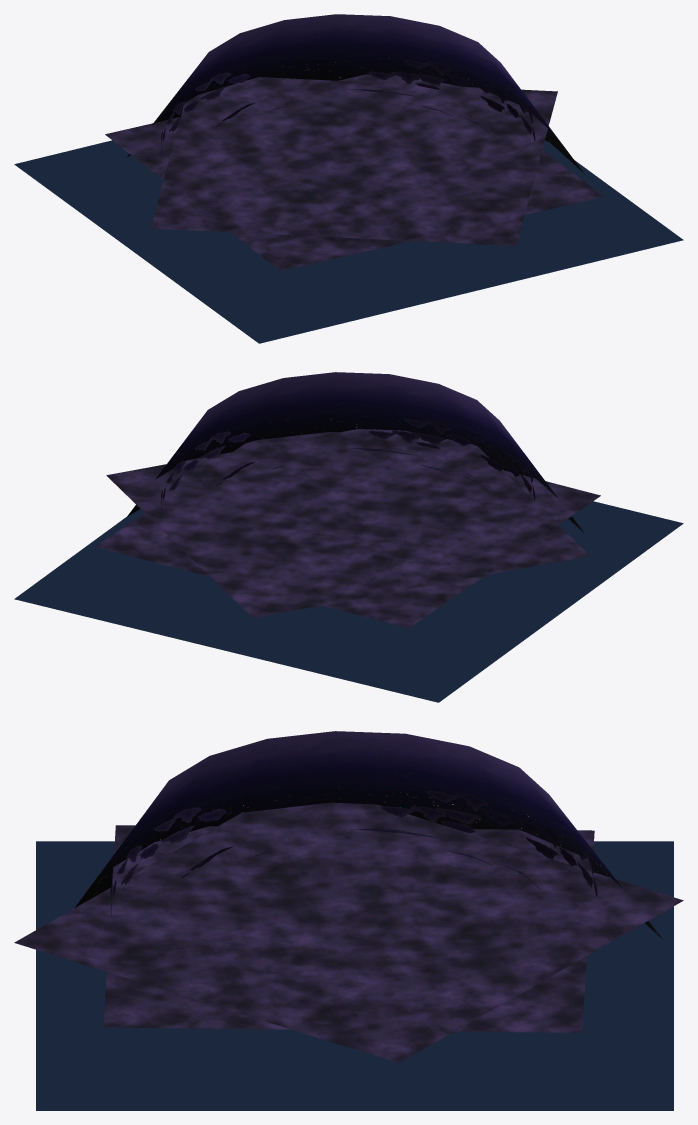
Rendered from RM_SKYBOX_NEW.obj.
3 views of the same model, one above another, from view 1: azimuth 30°, elevation 25°; view 2: azimuth 150°, elevation 25°; view 3: azimuth 270°, elevation 25° (orthographic). The views are drawn at different scales.
Visible parts, largest first — view 1: Object05, Skybox01, Object01; view 2: Object05, Skybox01, Object01; view 3: Object05, Skybox01, Object01, Object02.
Boxes of the visible parts, box(x1,y1,x2,y2) form: Object05: box(105, 74, 603, 270); Skybox01: box(14, 14, 683, 343); Object01: box(161, 59, 535, 157); Object05: box(95, 429, 600, 627); Skybox01: box(14, 372, 683, 702); Object01: box(161, 418, 535, 516); Object05: box(14, 802, 683, 1062); Skybox01: box(36, 731, 673, 1110); Object01: box(110, 790, 597, 916); Object02: box(180, 829, 542, 891).
Bounding box in the file's own units: 9295 × 2535 × 9295.
